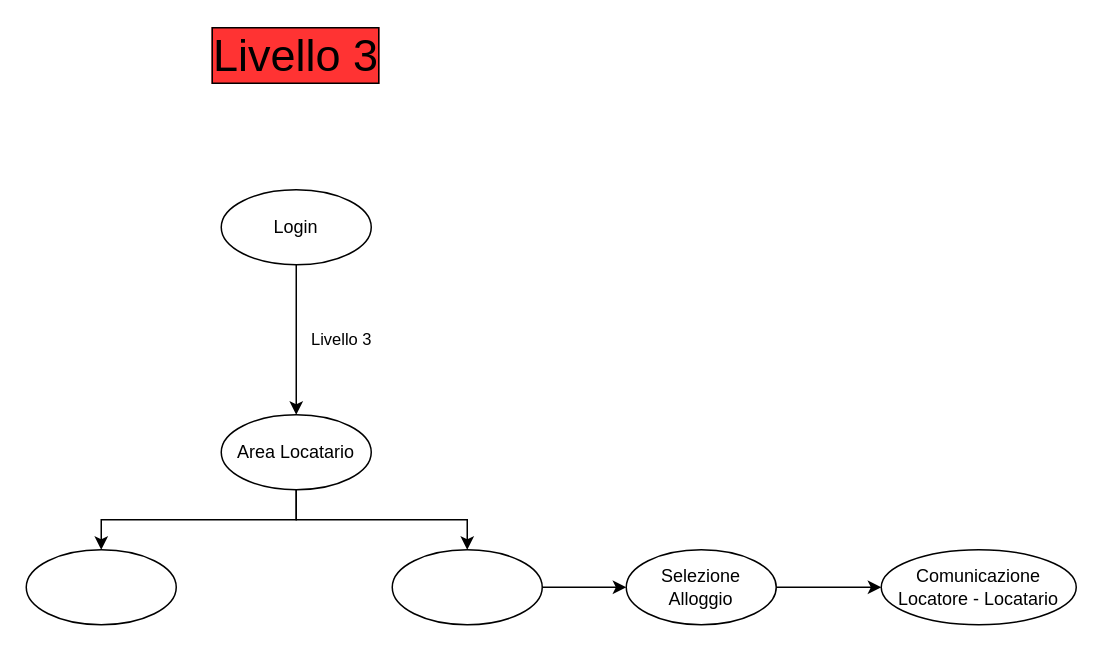
This 1103x651 diagram has some shape labels left out. The box of each missing label's shape, as (x1, y1, x2, y2) in pixels:
Catalogo: (391, 548, 542, 625)
Modifica Profilo Utente: (25, 548, 176, 625)
